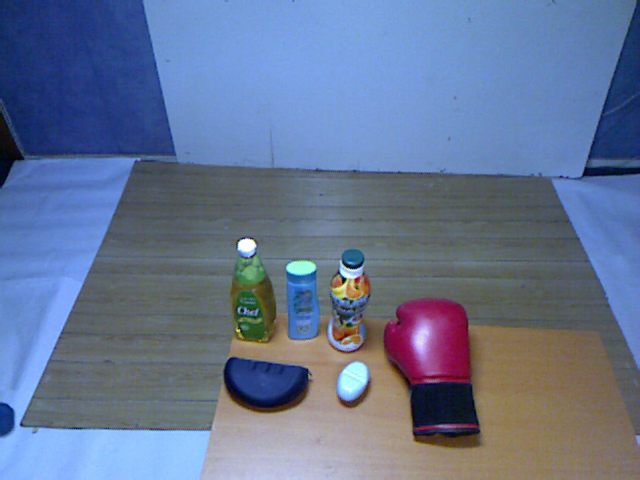aceite: (223, 235, 281, 346)
balsamo: (281, 255, 325, 346)
estuche: (215, 353, 317, 416)
guante: (379, 290, 490, 447)
jabon: (333, 355, 373, 411)
yogurt: (324, 243, 373, 356)
